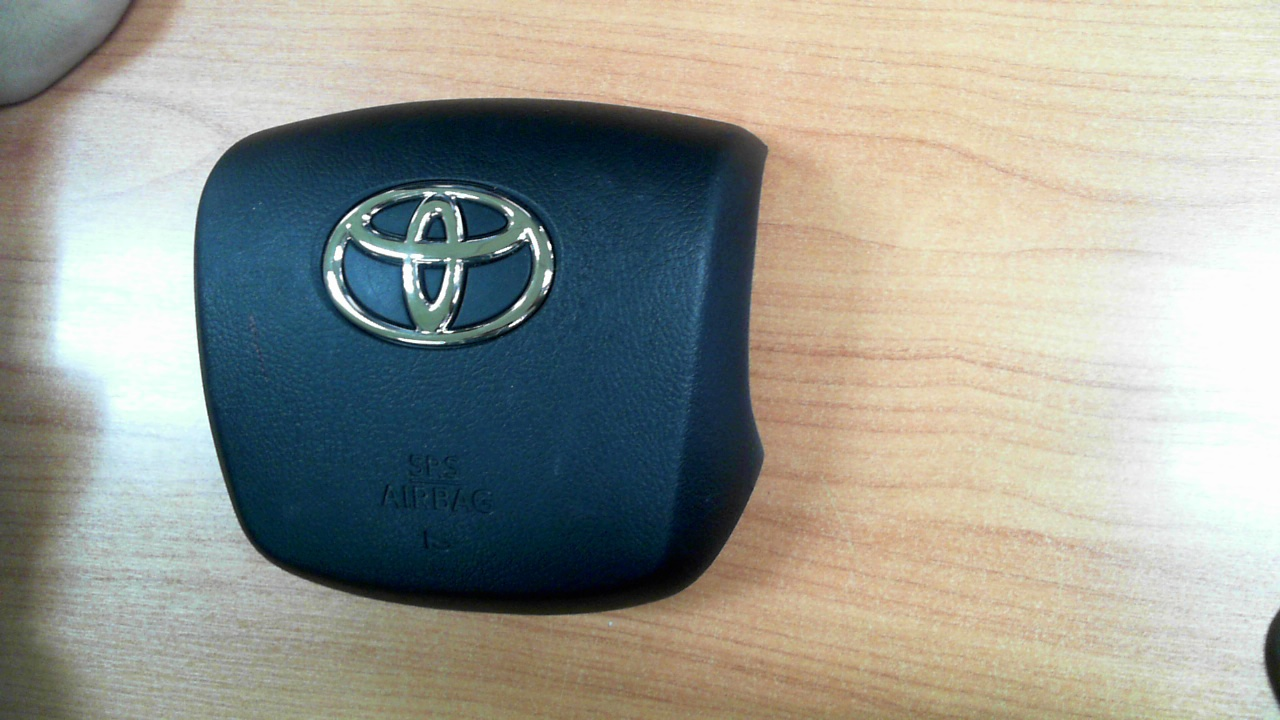Airbag: (191, 96, 769, 617)
Toyota: (322, 184, 555, 346)
